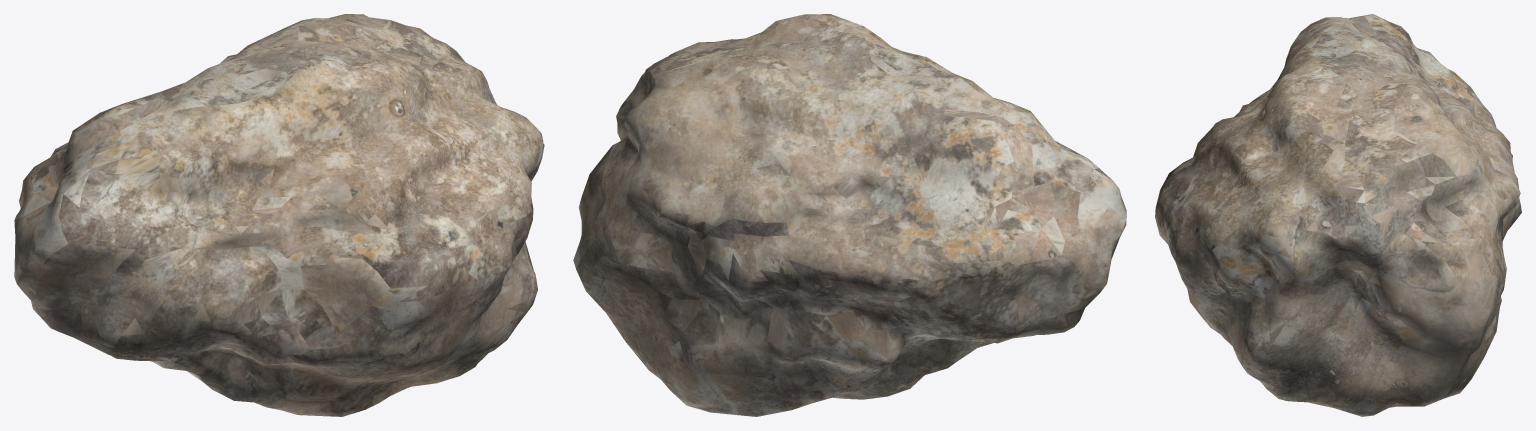
File: rock_2.obj
The picture shows the model from 3 angles, left to right: view 1: azimuth 30°, elevation 25°; view 2: azimuth 150°, elevation 25°; view 3: azimuth 270°, elevation 25°; orthographic projection. The views are drawn at different scales.
Parts seen in each view (by area): view 1: rock_2; view 2: rock_2; view 3: rock_2.
Boxes of the visible parts, x1,y1,x2,y2 form: rock_2: (14, 14, 544, 416); rock_2: (573, 14, 1126, 416); rock_2: (1155, 14, 1521, 416).
Bounding box in the file's own units: 3.43 × 2.34 × 2.56.
Materials: 1 (1 with a texture image).
